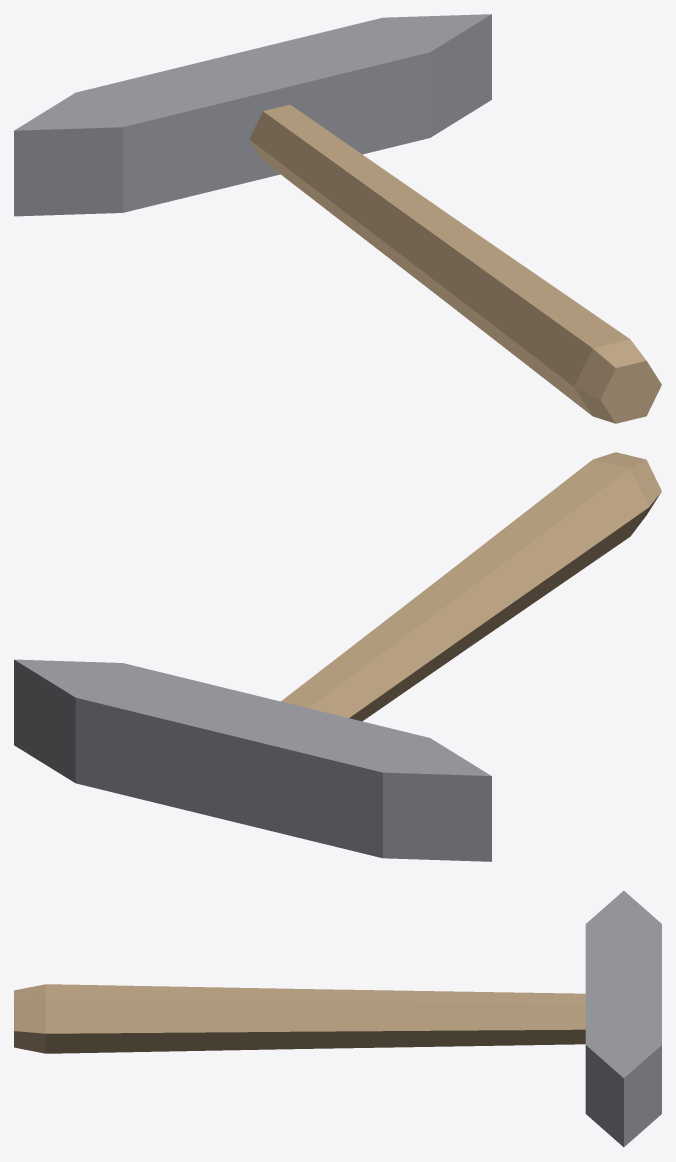
File: prop-mosaic-hammer.fbx
The picture shows the model from 3 angles, top to bottom: view 1: azimuth 30°, elevation 25°; view 2: azimuth 150°, elevation 25°; view 3: azimuth 270°, elevation 25°; orthographic projection. The views are drawn at different scales.
Visible parts, largest first — view 1: prop-mosaic-hammer; view 2: prop-mosaic-hammer; view 3: prop-mosaic-hammer.
Part boxes in pixels (left/top/right/bottom): prop-mosaic-hammer: left=14, top=14, right=661, bottom=423; prop-mosaic-hammer: left=14, top=452, right=661, bottom=861; prop-mosaic-hammer: left=14, top=890, right=661, bottom=1147.
Size of the model in its own units: 14 by 2.4 by 20.4.
